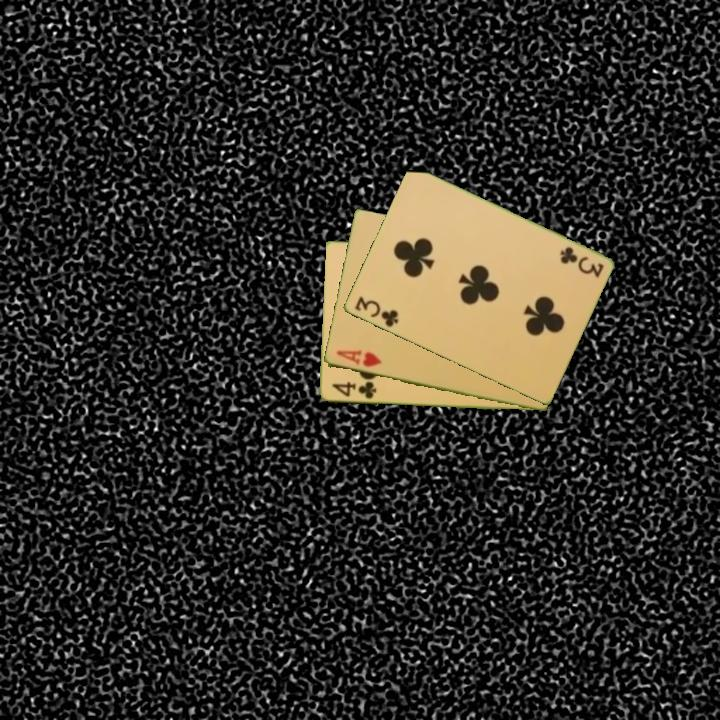3c: (351, 293, 401, 330), (556, 243, 606, 280)
4c: (328, 378, 379, 402)
Ah: (332, 347, 384, 370)
